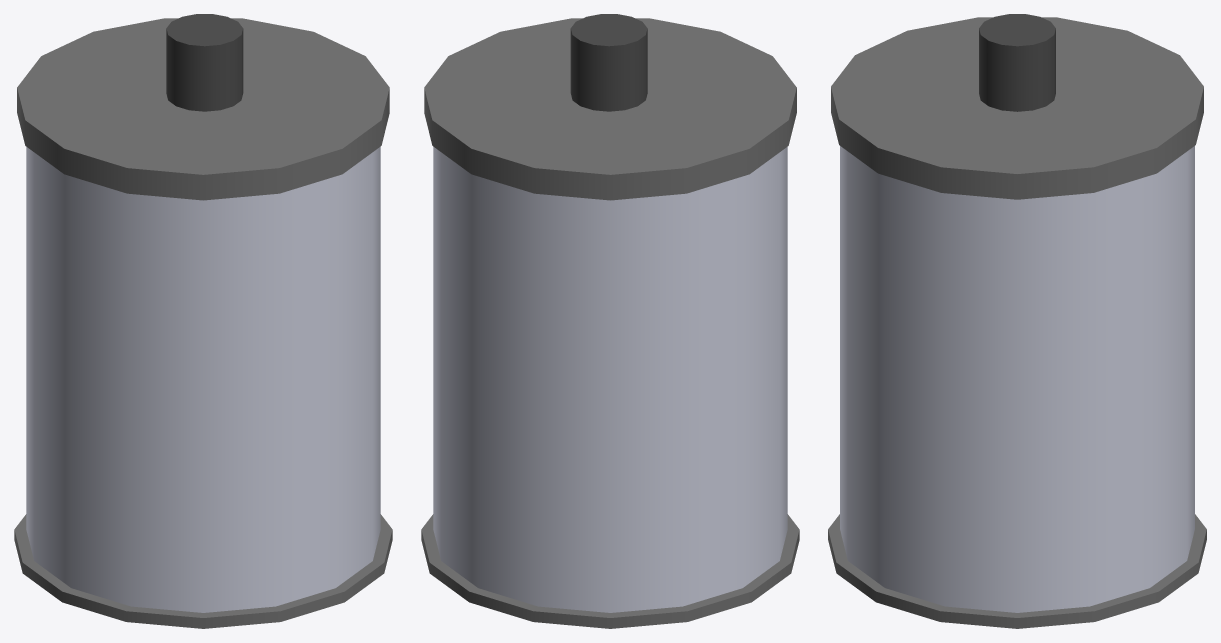
The model's file is SILVER2_Coxa_Simplified.fbx.
3 views of the same model, side by side, from view 1: azimuth 30°, elevation 25°; view 2: azimuth 150°, elevation 25°; view 3: azimuth 270°, elevation 25° (orthographic).
Visible parts, largest first — view 1: CoxaCanister; view 2: CoxaCanister; view 3: CoxaCanister.
Boxes of the visible parts, bbox=[...] form: CoxaCanister: bbox=[14, 14, 392, 628]; CoxaCanister: bbox=[421, 14, 799, 628]; CoxaCanister: bbox=[828, 14, 1206, 628].
Size of the model in its own units: 0.1913 by 0.2909 by 0.1923.
1 material, 1 textured.
